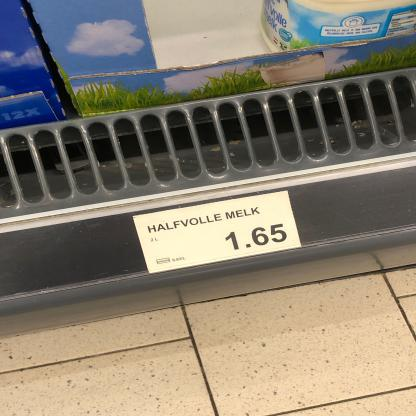prtg: (133, 192, 303, 275)
